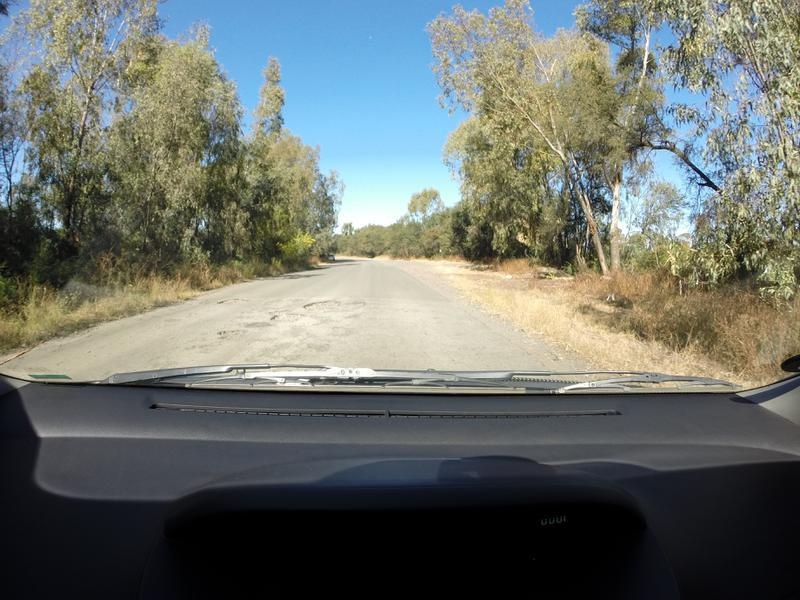pothole: (299, 299, 334, 313), (272, 311, 294, 322), (215, 330, 244, 337), (217, 297, 241, 305)
